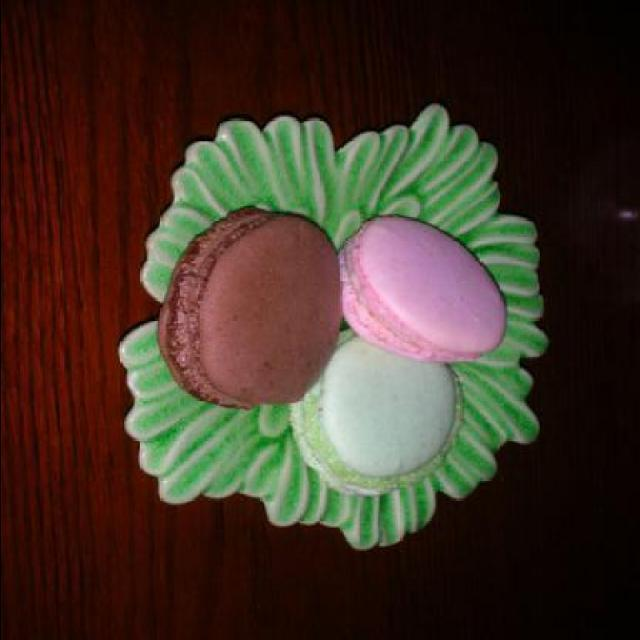Macaron: (152, 207, 510, 499)
